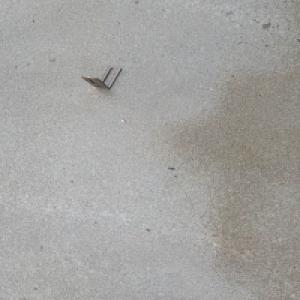MetalPart: (80, 65, 122, 89)
